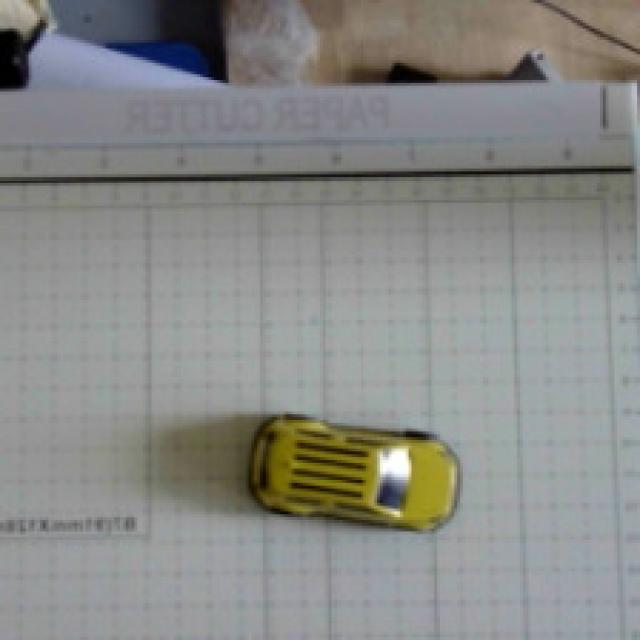Yellow Car: (189, 374, 482, 572)
